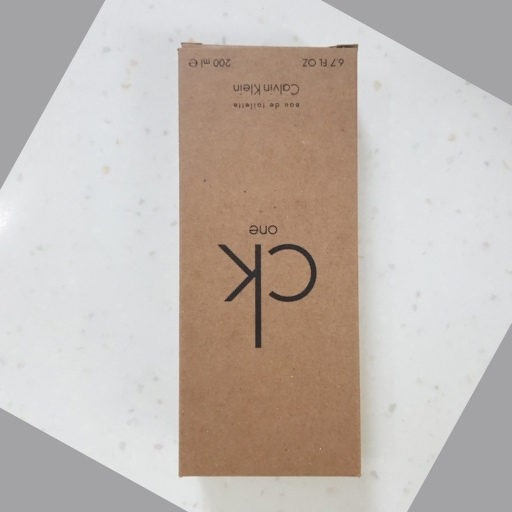Paper_0: (167, 36, 368, 483)
